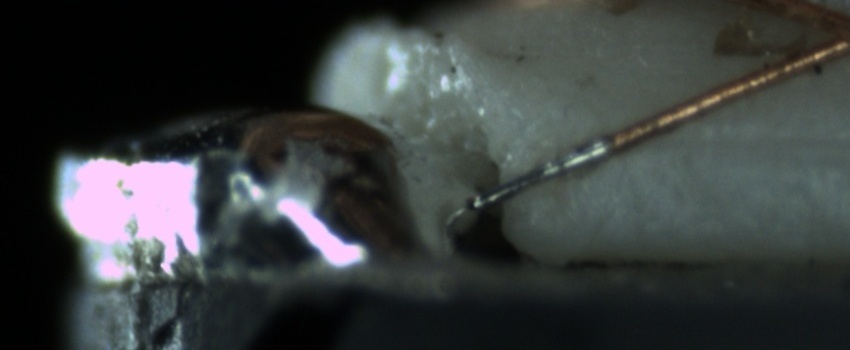CL: (796, 1, 849, 65)
DL: (632, 106, 849, 177)
TS: (467, 138, 608, 214)
TTCW: (464, 116, 653, 213)
